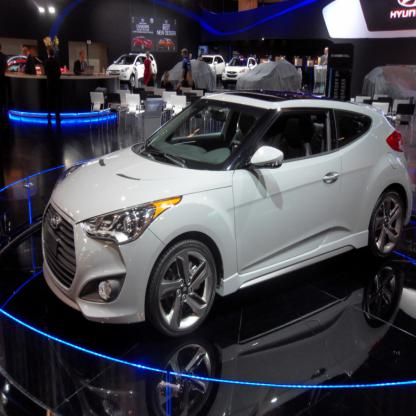Car: (40, 89, 413, 338), (106, 52, 157, 89), (222, 54, 258, 88)
